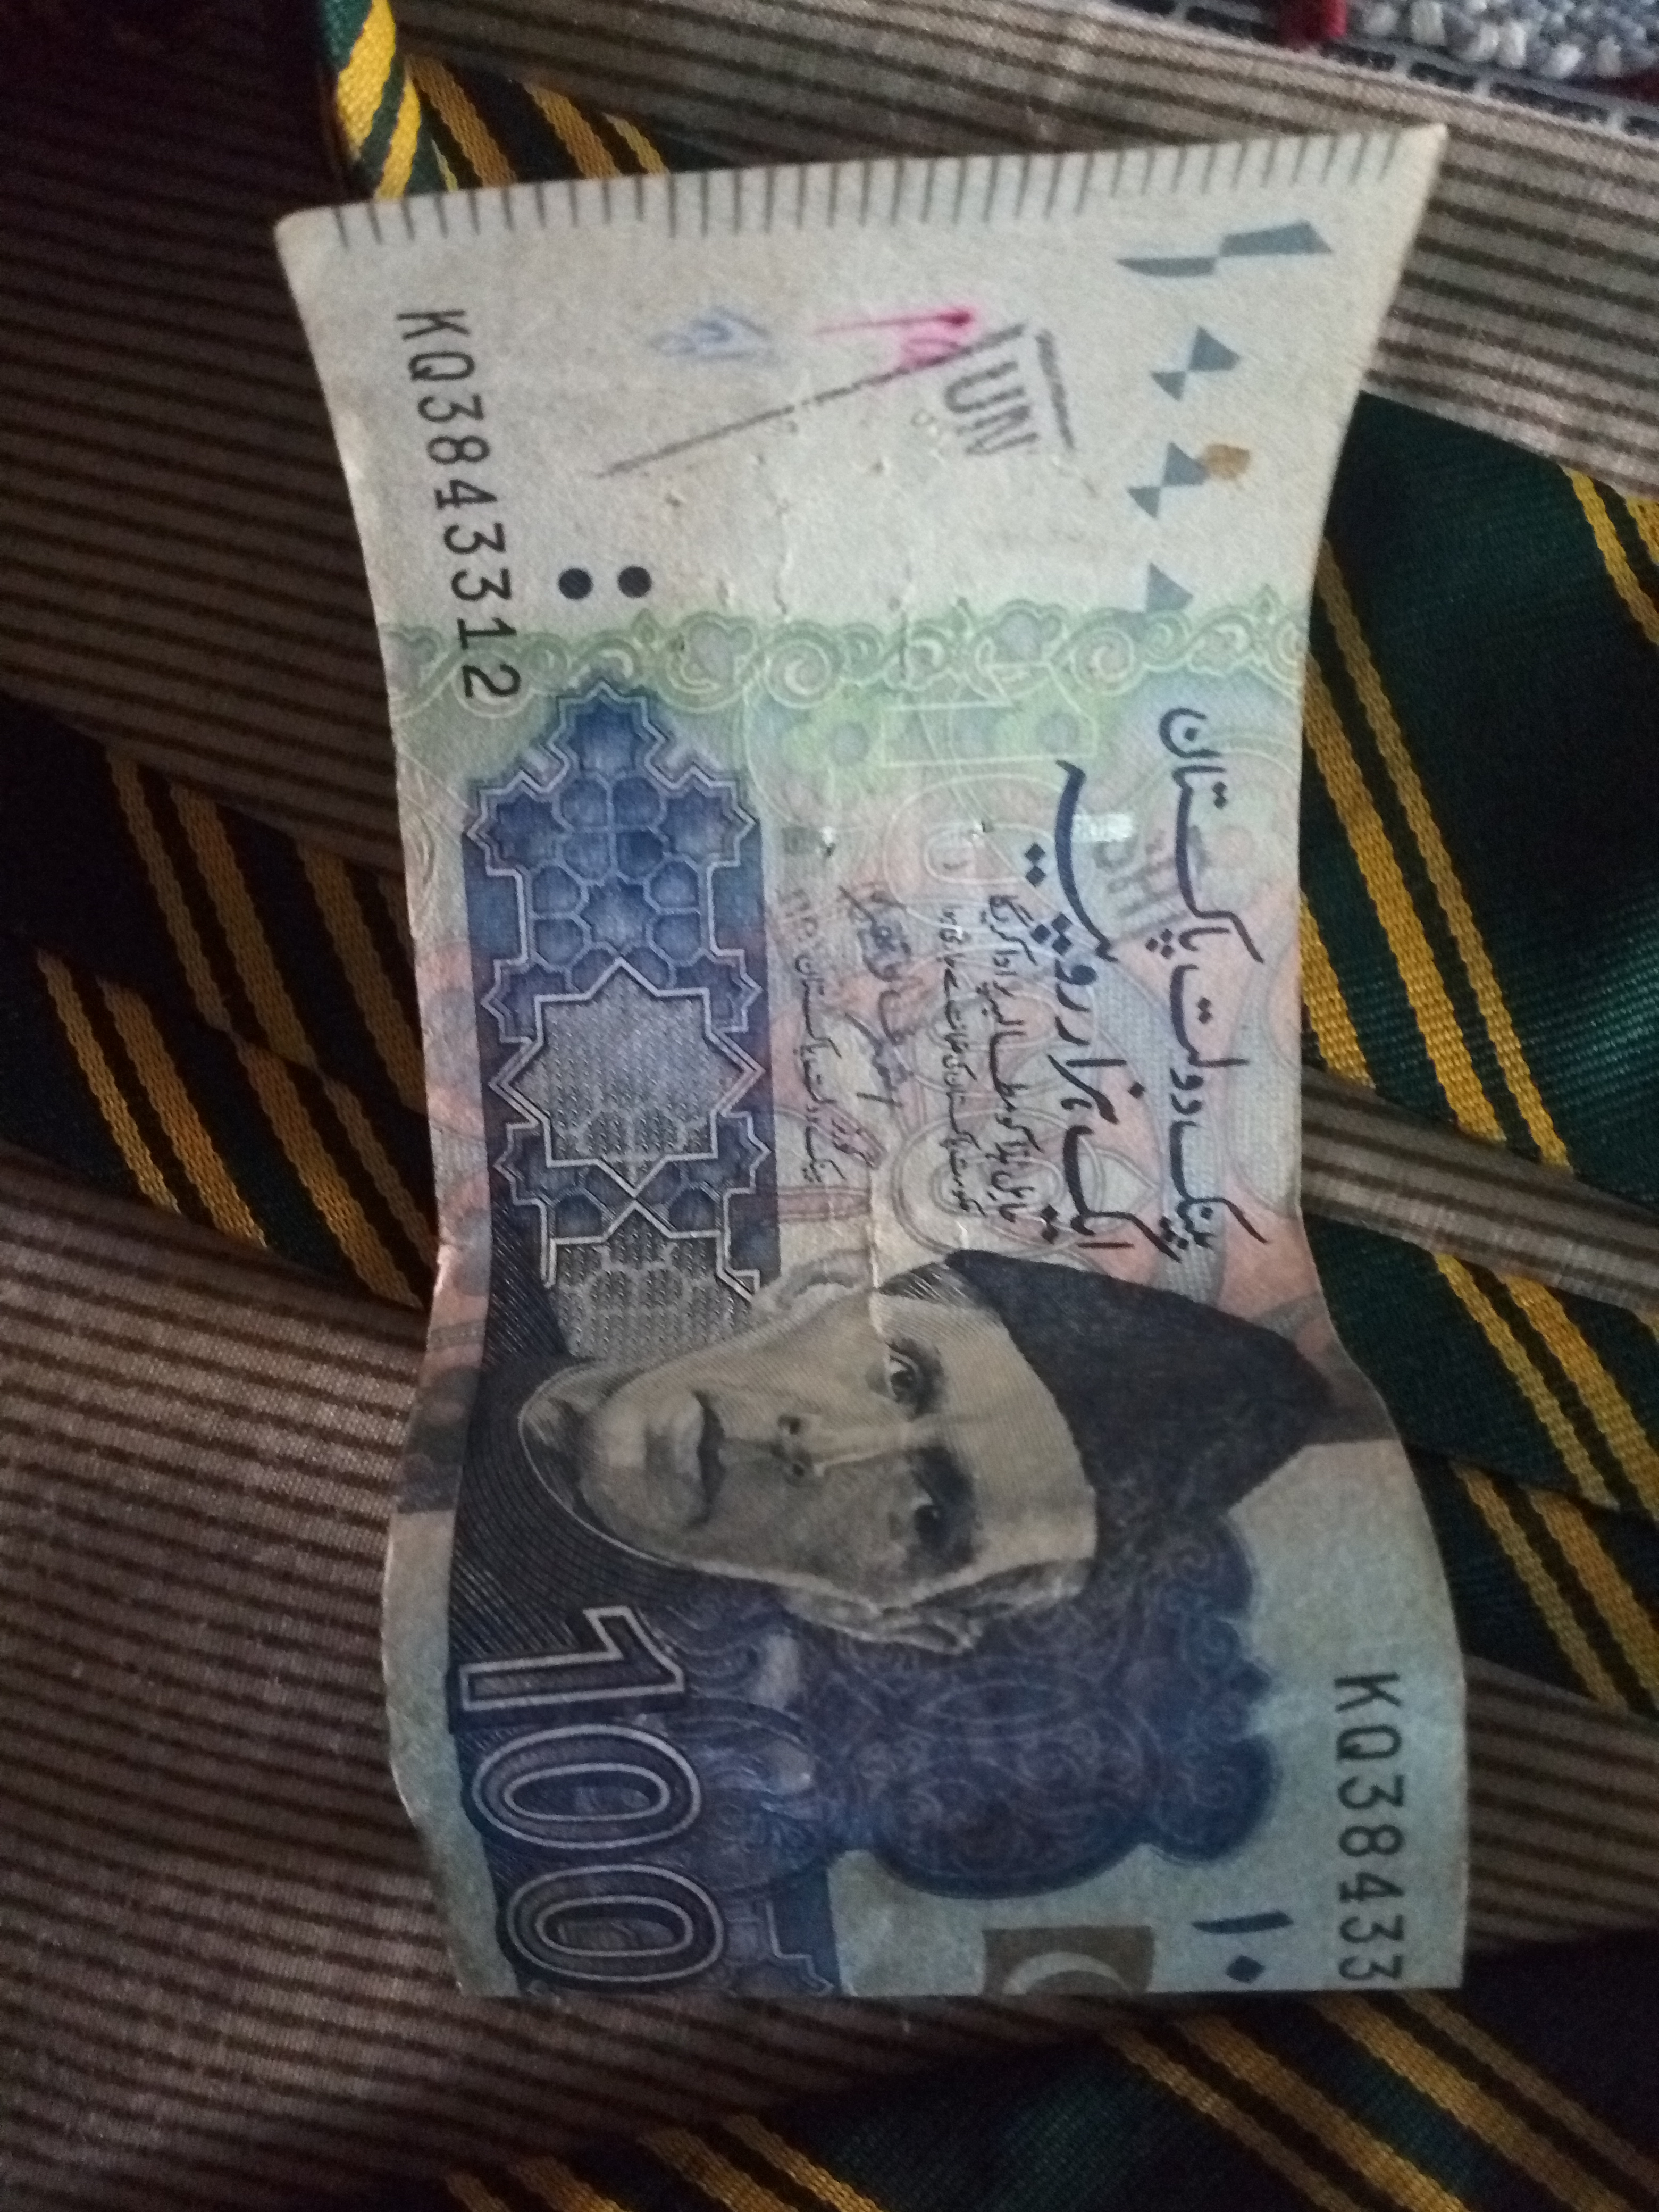1000 rupee: (251, 146, 1638, 2146)
